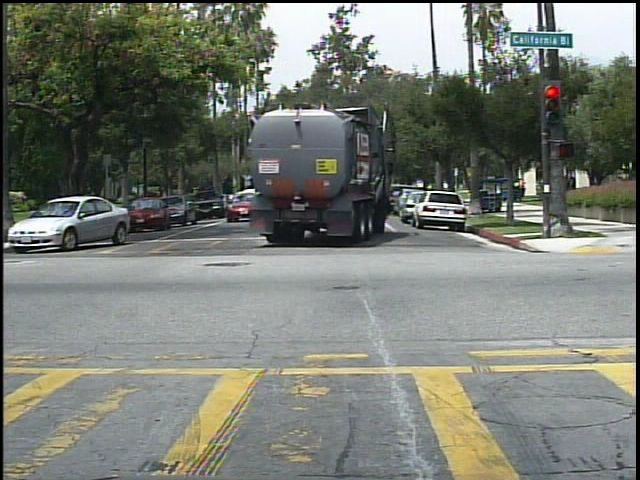person: (565, 170, 584, 202), (518, 179, 531, 199)
